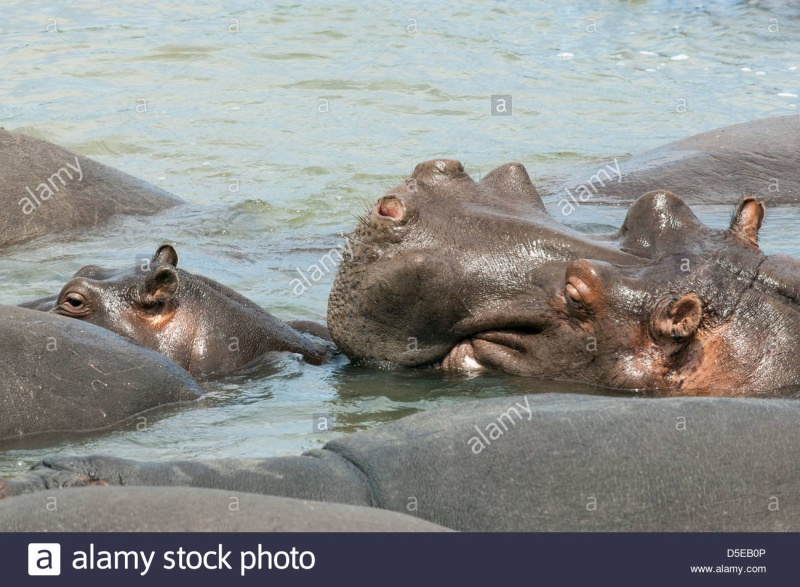hipopotamo: (321, 146, 800, 396), (2, 239, 315, 408)
